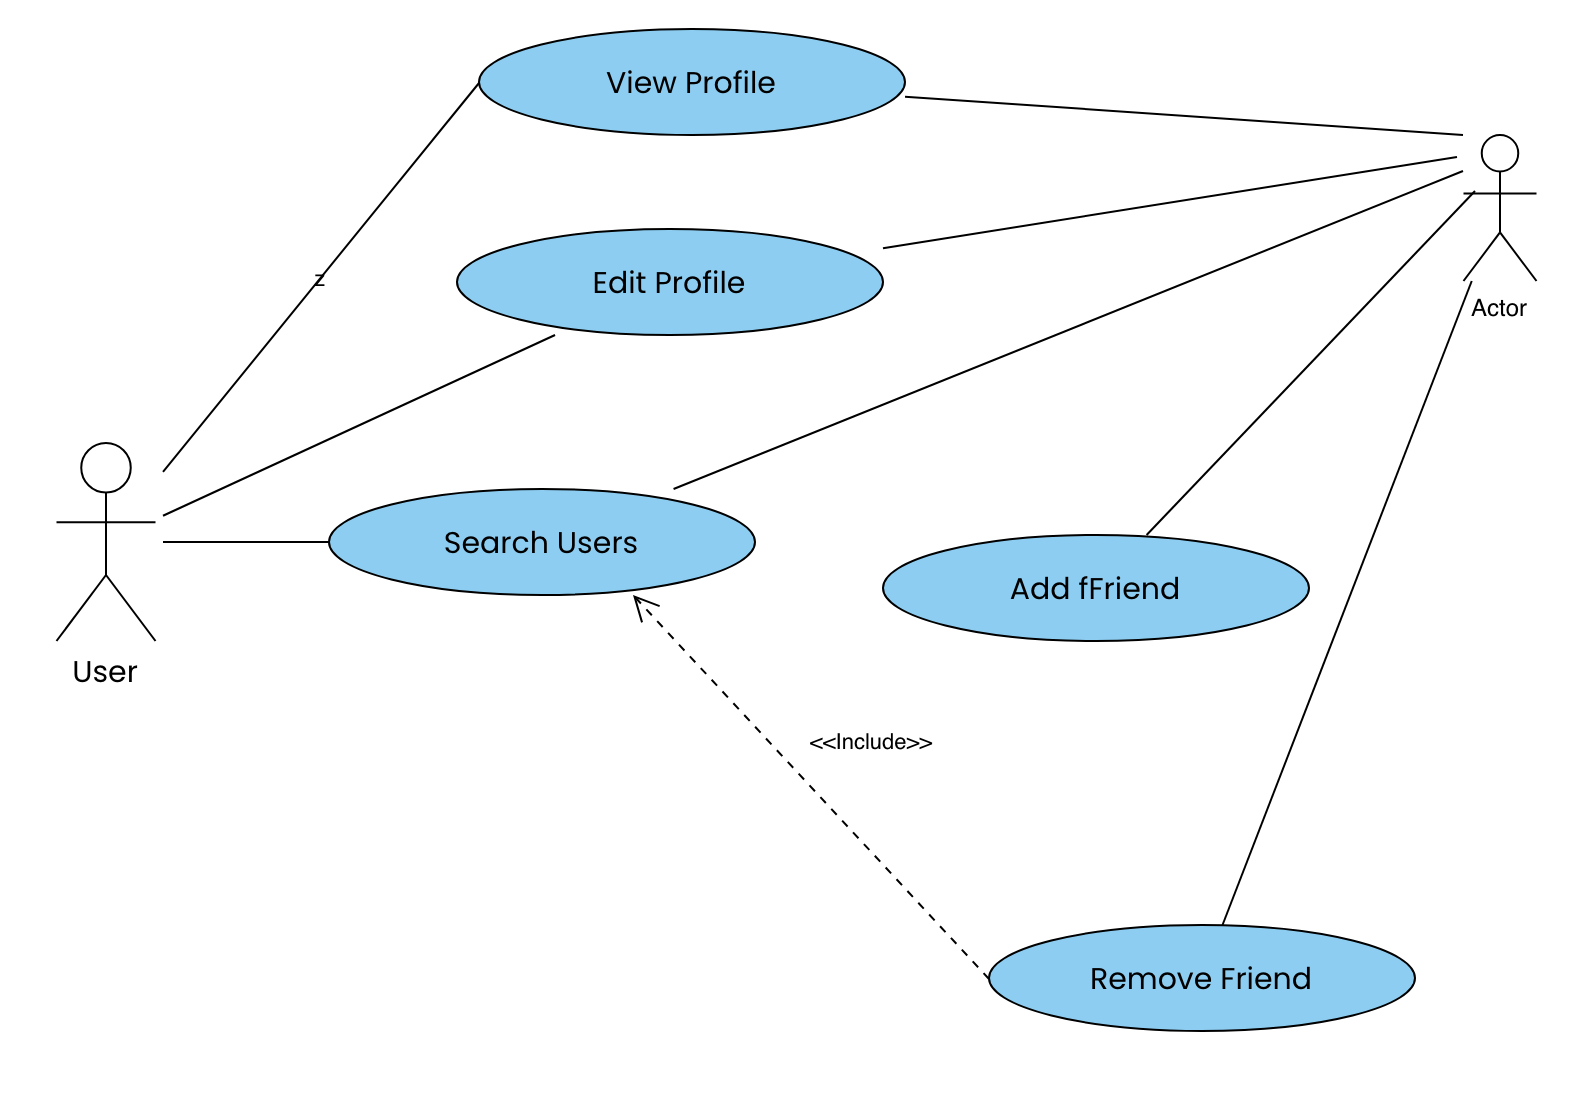actor: (39, 437, 168, 651), (1463, 133, 1538, 294)
association: (671, 167, 1471, 497), (1223, 277, 1473, 923), (628, 591, 985, 973), (165, 82, 478, 474), (1144, 187, 1478, 538), (155, 333, 553, 518), (879, 152, 1460, 255), (900, 91, 1466, 143), (163, 527, 325, 560)
text: (581, 62, 798, 112), (425, 522, 652, 566), (1004, 566, 1192, 612), (1094, 961, 1314, 999), (584, 258, 754, 305), (794, 722, 944, 765), (65, 653, 154, 690), (1464, 288, 1536, 328)
use_case: (981, 921, 1420, 1036), (454, 224, 886, 340), (323, 485, 760, 599), (475, 25, 909, 139), (878, 532, 1310, 645)
